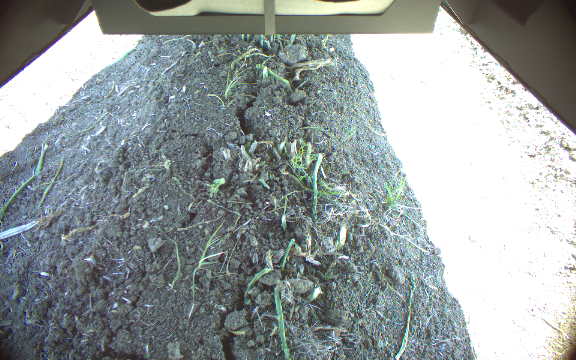aspa: (270, 286, 293, 360)
